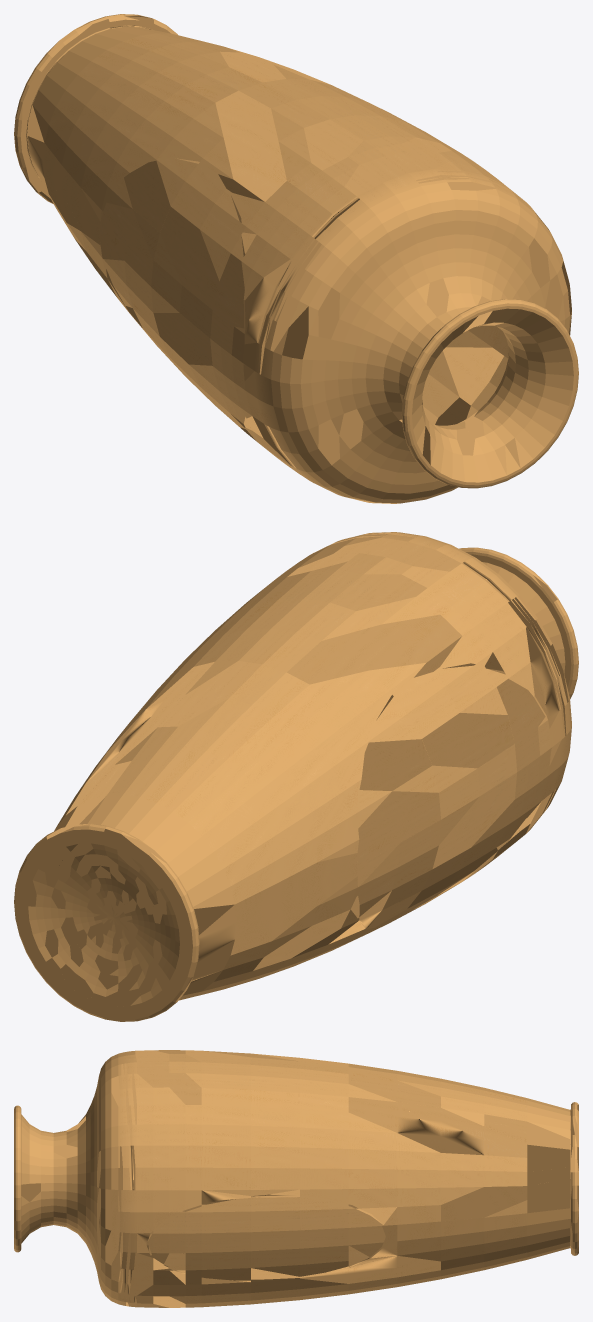
The model's file is vase2.obj.
3 views of the same model, one above another, from view 1: azimuth 30°, elevation 25°; view 2: azimuth 150°, elevation 25°; view 3: azimuth 270°, elevation 25° (orthographic). The views are drawn at different scales.
Size of the model in its own units: 96.05 by 96.05 by 210.
